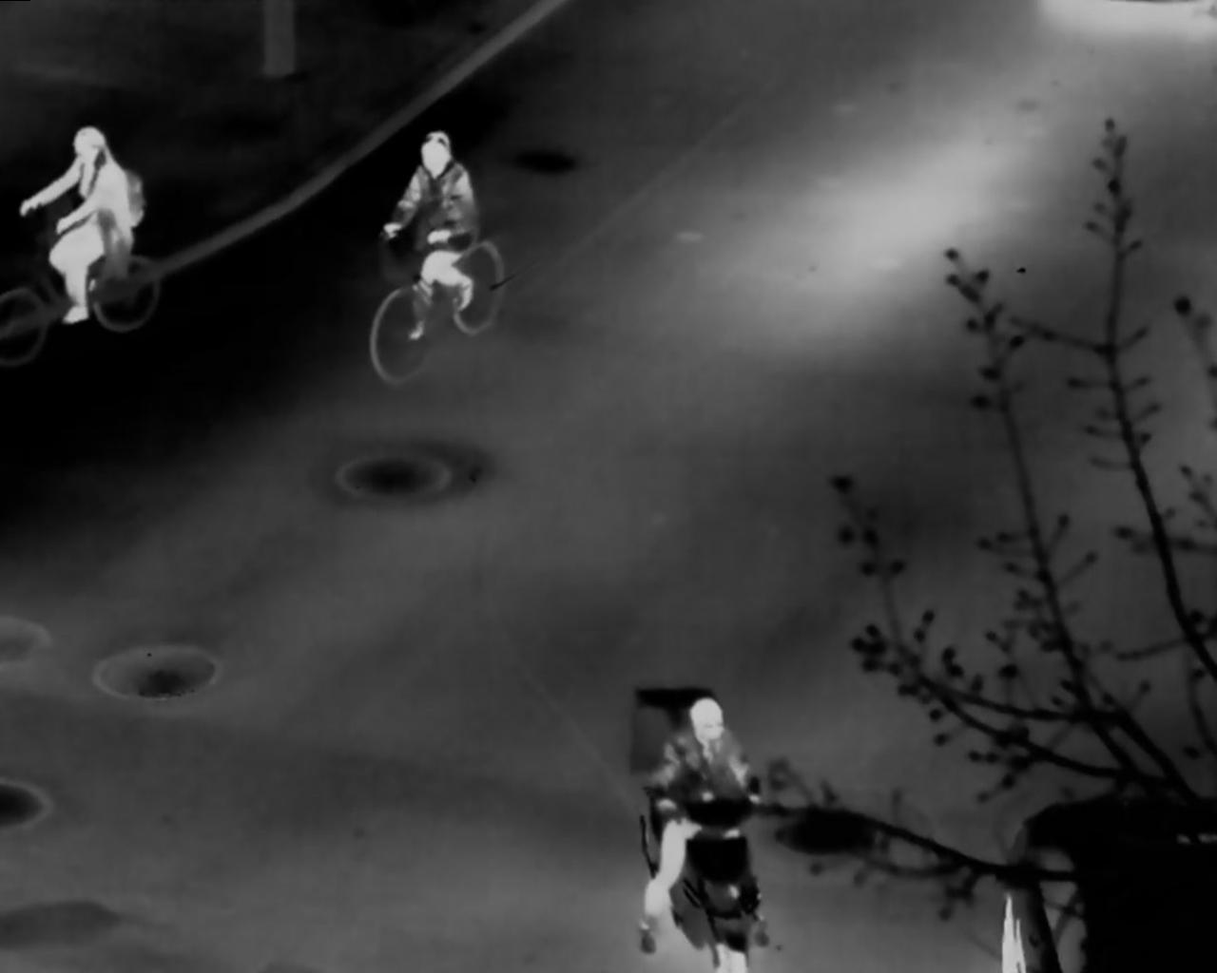person: (637, 696, 775, 958), (17, 124, 142, 326), (378, 129, 478, 341)
